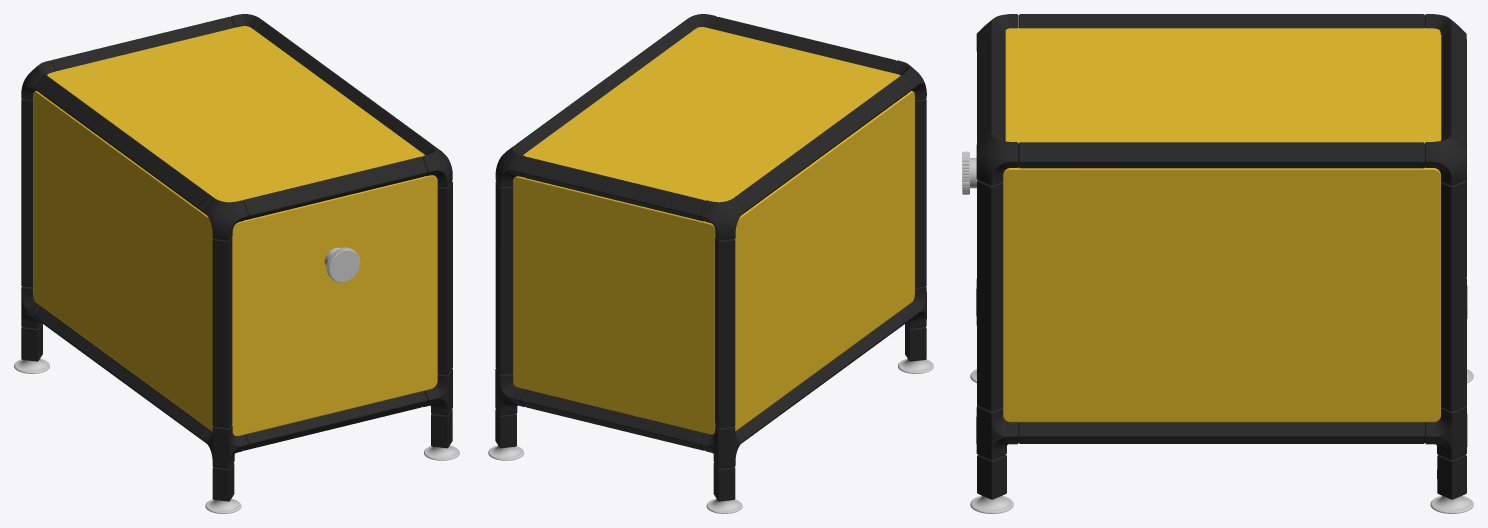
3 renders of one model, left to right at view 1: azimuth 30°, elevation 25°; view 2: azimuth 150°, elevation 25°; view 3: azimuth 270°, elevation 25°, orthographic. The views are drawn at different scales.
Visible parts, largest first — view 1: 229x374x229; view 2: 229x374x229; view 3: 229x374x229.
Part boxes in pixels (x1,y1,x2,y2): 229x374x229: (14, 14, 459, 513); 229x374x229: (488, 14, 933, 513); 229x374x229: (962, 14, 1473, 513).
Bounding box in the file's own units: 0.3189 × 0.3683 × 0.4707.
